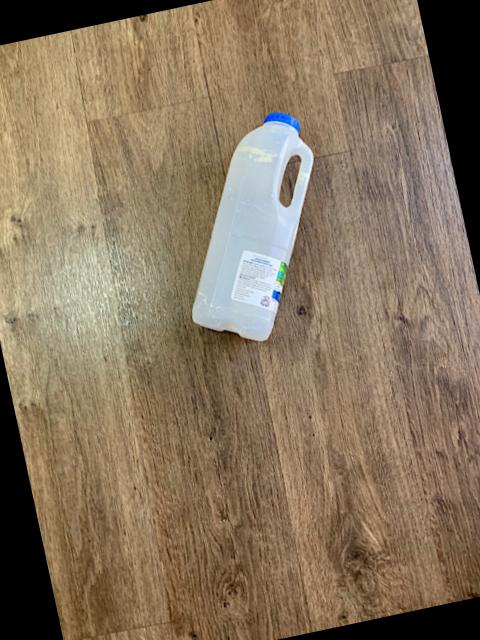plastic: (190, 110, 311, 338)
